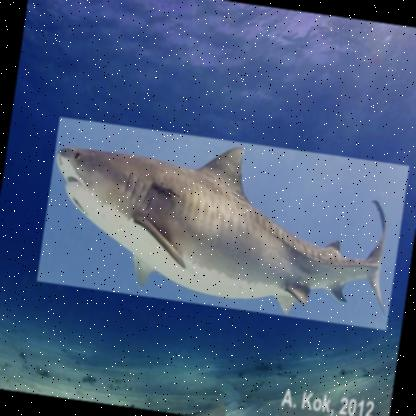tiger-shark: (36, 116, 410, 331)
